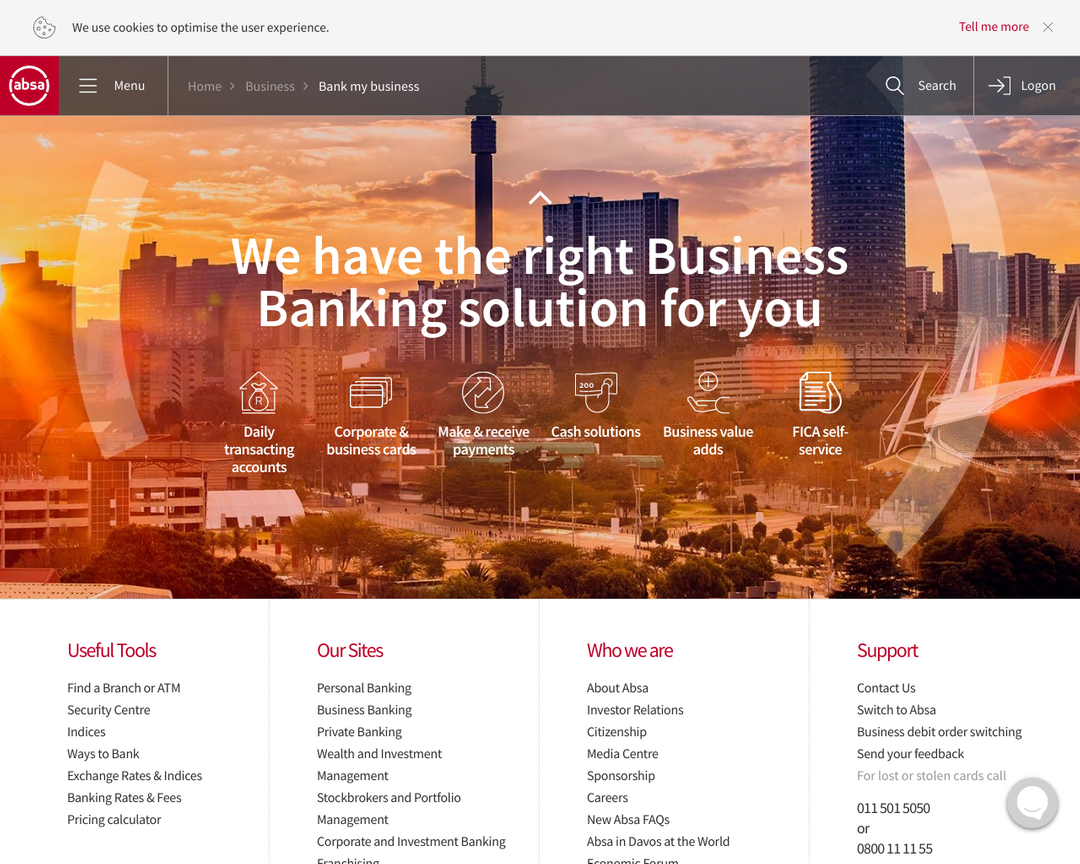ABSA: (8, 64, 53, 107)
